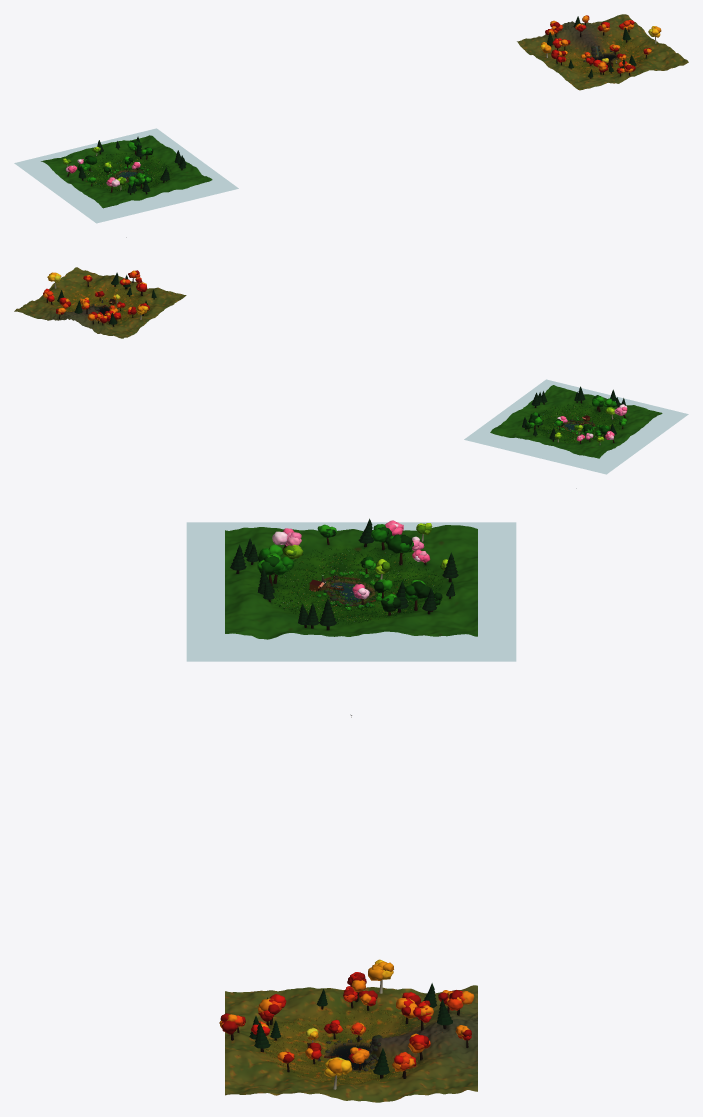
Rendered from pond.glb.
3 renders of one model, top to bottom at view 1: azimuth 30°, elevation 25°; view 2: azimuth 150°, elevation 25°; view 3: azimuth 270°, elevation 25°, orthographic. The views are drawn at different scales.
Parts seen in each view (by area): view 1: A2_Terrain, Terrain, Water, A2_Foliage, Foliage, Grass, A2_Grass; view 2: Terrain, A2_Terrain, Water, A2_Foliage, Foliage, Grass; view 3: A2_Terrain, Terrain, Water, A2_Foliage, Foliage, Grass, A2_Grass.
Boxes of the visible parts, x1,y1,x2,y2 form: A2_Terrain: (517, 14, 688, 90); Terrain: (41, 135, 212, 208); Water: (14, 128, 238, 222); A2_Foliage: (540, 15, 661, 77); Foliage: (63, 136, 186, 193); Grass: (85, 153, 172, 190); A2_Grass: (559, 34, 644, 74); Terrain: (490, 385, 662, 458); A2_Terrain: (14, 267, 186, 338); Water: (464, 379, 688, 474); A2_Foliage: (43, 270, 156, 324); Foliage: (522, 386, 627, 442); Grass: (534, 403, 619, 443); A2_Terrain: (225, 985, 477, 1102); Terrain: (225, 525, 477, 639); Water: (187, 522, 515, 661); A2_Foliage: (219, 959, 474, 1077); Foliage: (230, 518, 458, 626); Grass: (268, 547, 442, 624); A2_Grass: (264, 1009, 426, 1084).
Bounding box in the file's own units: 506 × 72.86 × 120.
